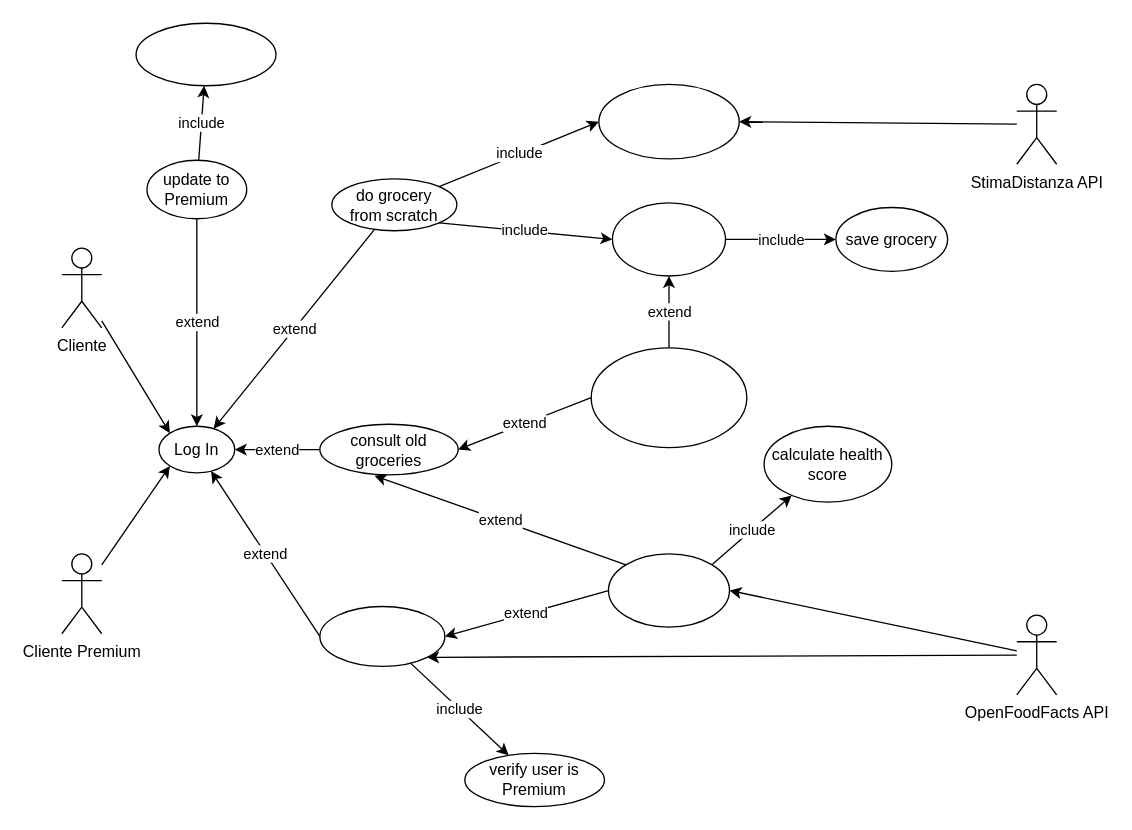
Some shapes in this 1132 by 830 pixel diagram are drawn without their labels. Each missing label, with the centre of its shape:
"copy old grocery making a new one" goes at pixel 668 397.
"edit grocery" goes at pixel 668 238.
"estimate nearest supermarket" goes at pixel 668 121.
"get product information" goes at pixel 668 590.
"search product" goes at pixel 382 635.
"verify that user is not Premium" goes at pixel 205 54.
